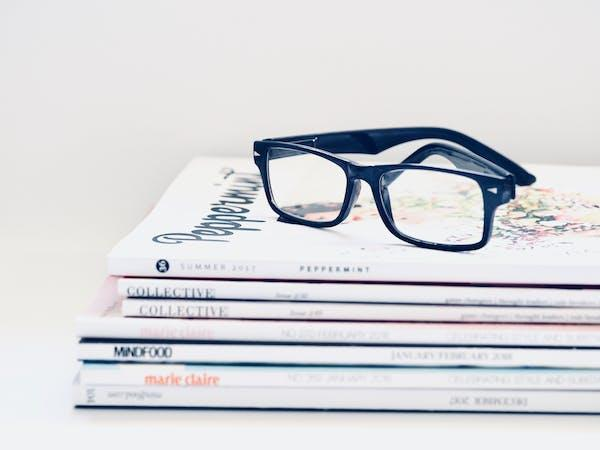eyeglasses: (243, 110, 560, 257)
